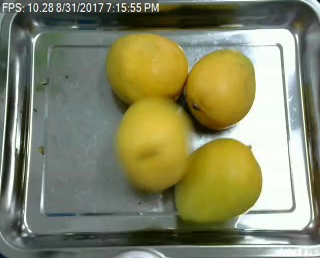Mango: (174, 138, 263, 222), (114, 101, 186, 190), (105, 32, 187, 106), (185, 49, 256, 129)
